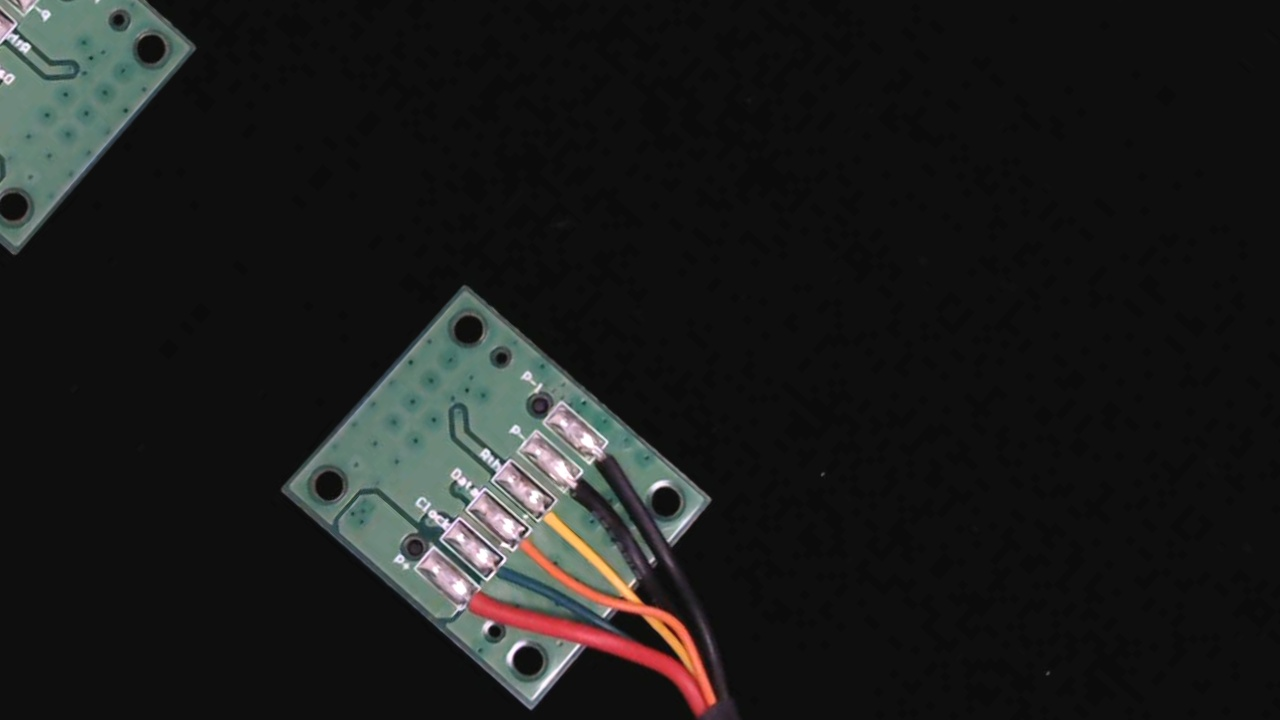Black: (549, 460, 622, 530)
Black1: (578, 430, 644, 493)
Green: (469, 545, 545, 617)
Orange: (497, 516, 573, 588)
Red: (447, 575, 523, 647)
Yellow: (523, 488, 591, 553)
